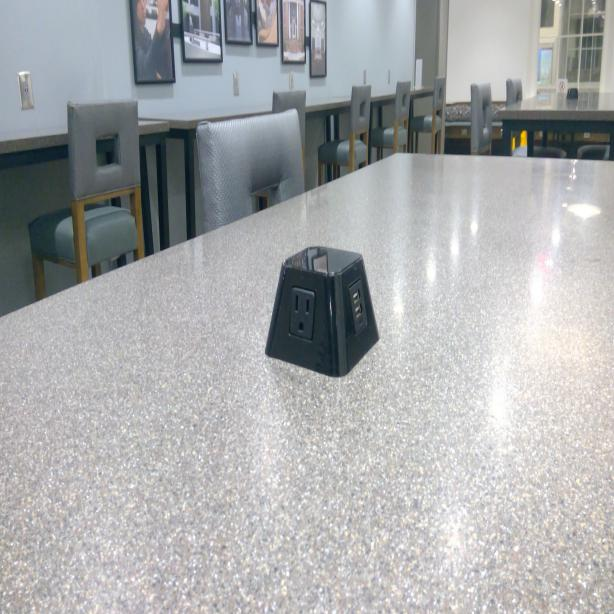typeb: (288, 287, 315, 342)
